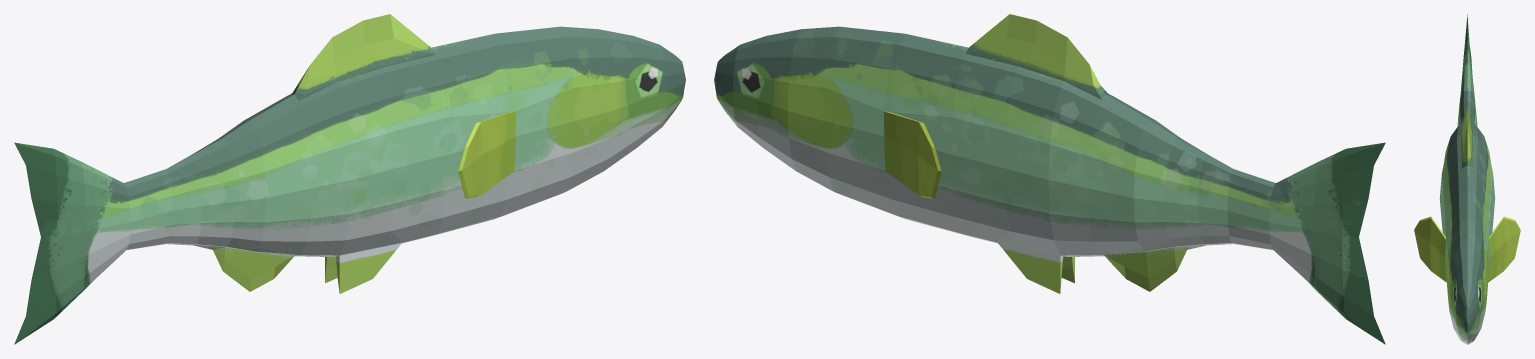
The model's file is fish_1.fbx.
The picture shows the model from 3 angles, left to right: view 1: azimuth 30°, elevation 25°; view 2: azimuth 150°, elevation 25°; view 3: azimuth 270°, elevation 25°; orthographic projection. The views are drawn at different scales.
Parts seen in each view (by area): view 1: fish; view 2: fish; view 3: fish.
Part boxes in pixels (x1=…): fish: x1=14, y1=14, x2=685, y2=344; fish: x1=714, y1=14, x2=1385, y2=344; fish: x1=1414, y1=14, x2=1520, y2=344.
Bounding box in the file's own units: 6.67 × 2.48 × 1.27.
